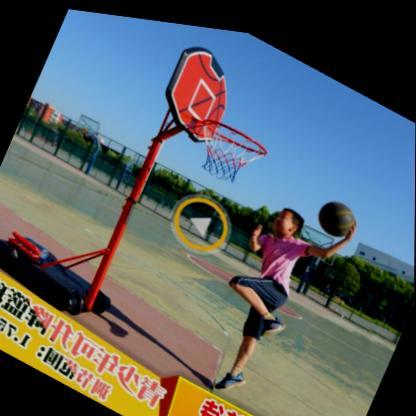basketball: (312, 183, 360, 235)
rim: (183, 103, 273, 191)
